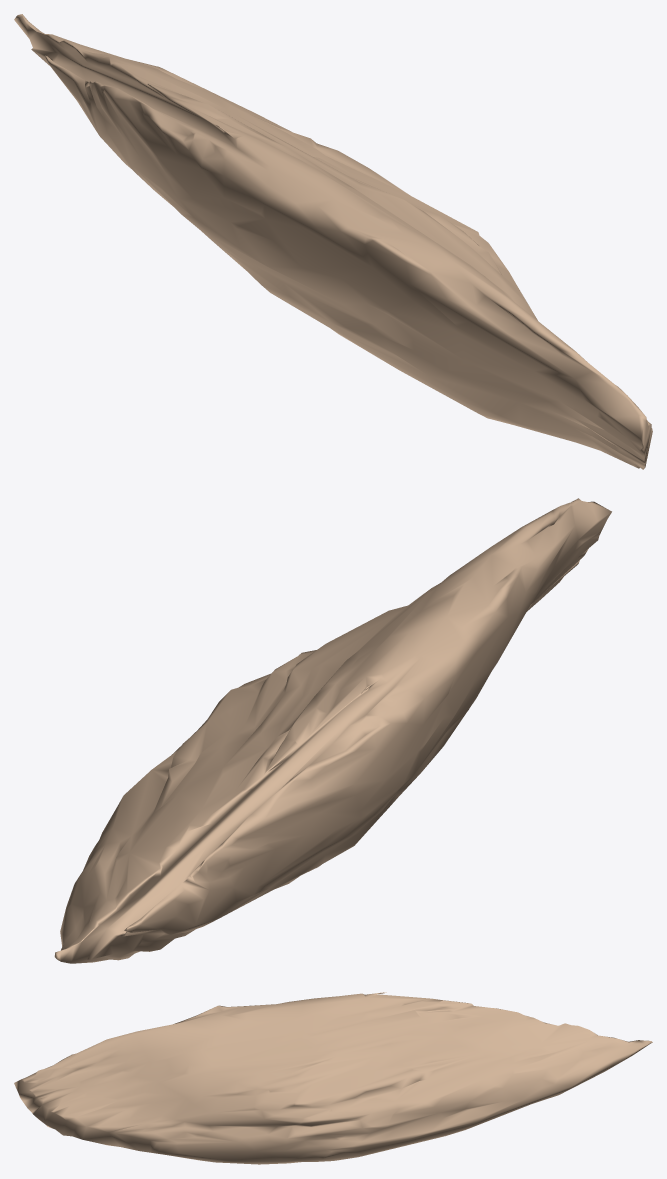
3 renders of one model, top to bottom at view 1: azimuth 30°, elevation 25°; view 2: azimuth 150°, elevation 25°; view 3: azimuth 270°, elevation 25°, orthographic. The views are drawn at different scales.
Parts seen in each view (by area): view 1: 右侧阔筋膜张肌; view 2: 右侧阔筋膜张肌; view 3: 右侧阔筋膜张肌.
Boxes of the visible parts, box(x1,y1,x2,y2) form: 右侧阔筋膜张肌: box(14, 14, 652, 469); 右侧阔筋膜张肌: box(54, 498, 611, 963); 右侧阔筋膜张肌: box(14, 992, 652, 1164).
Bounding box in the file's own units: 0.0577 × 0.0519 × 0.238.
